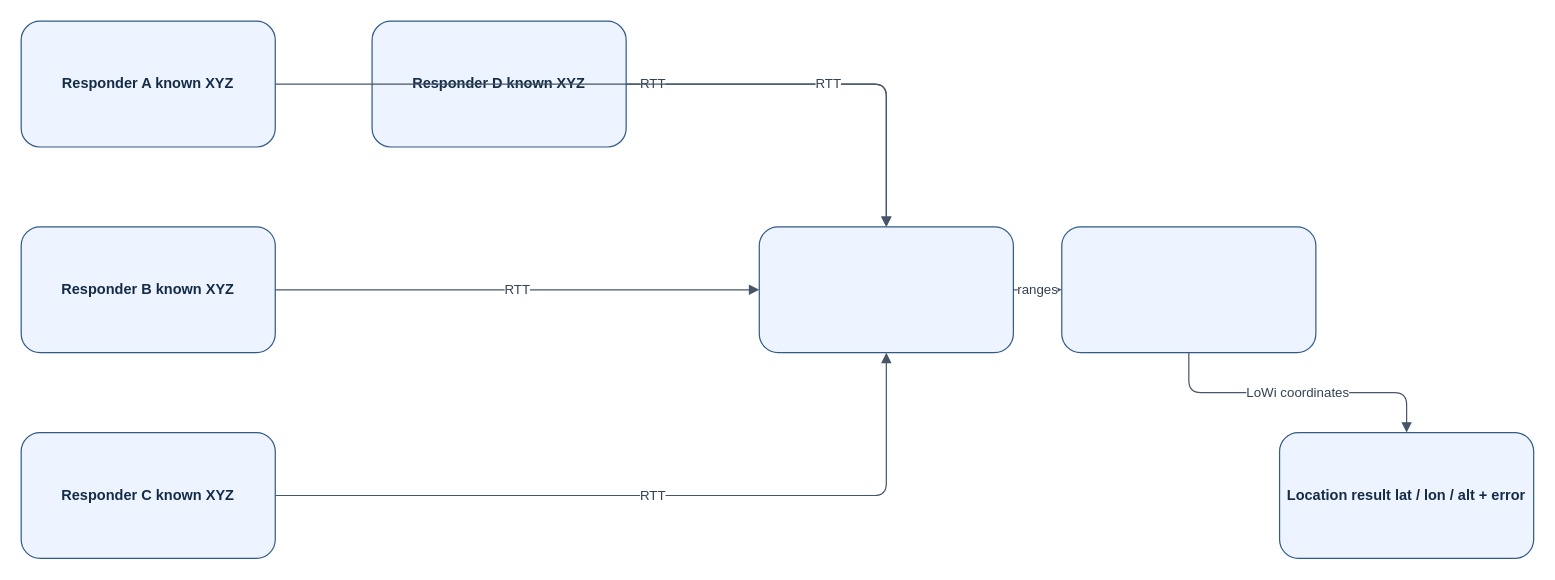
This 1555x580 diagram has some shape labels left out. The shapes that lost their labels are listed below. From the top down, each one's centre as x and y in pixels, then its label:
point (885, 289): Initiator AP 802.11mc RTT requests
point (1188, 289): Trilateration distance intersection
